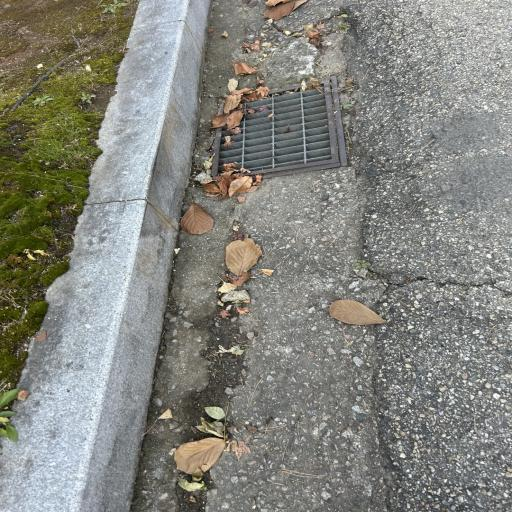drain: (211, 77, 346, 176)
